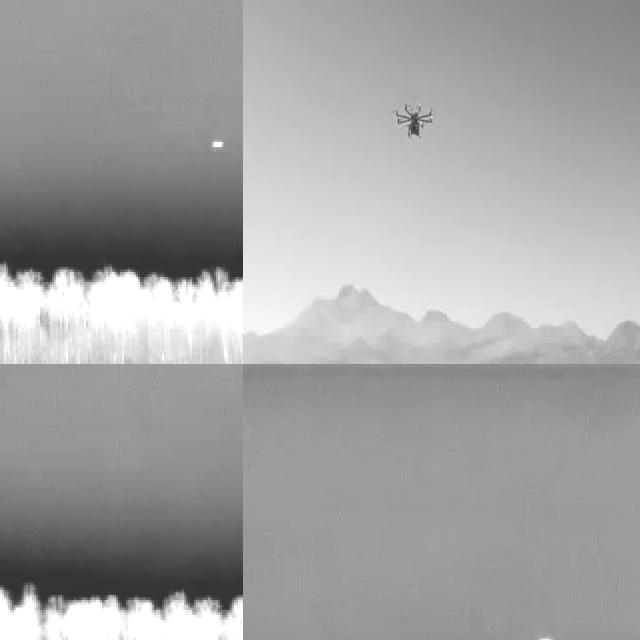1: (199, 135, 231, 157), (527, 634, 557, 640)
drone: (388, 100, 437, 148)
